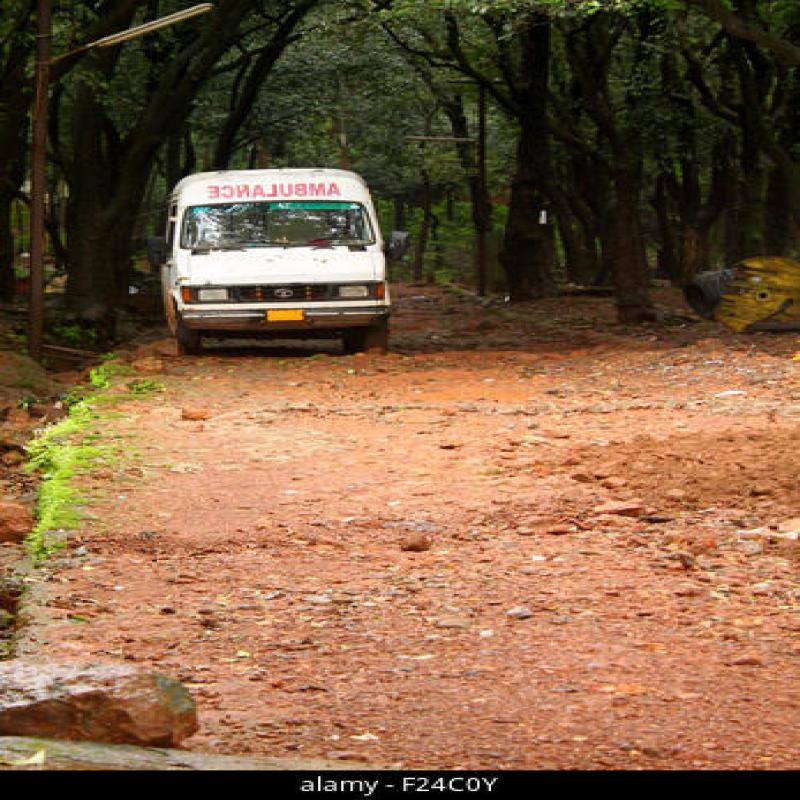ambulance: (116, 141, 404, 334)
